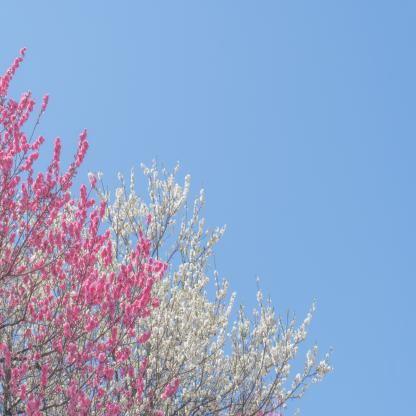Momo: (0, 150, 338, 416), (0, 42, 173, 416)
